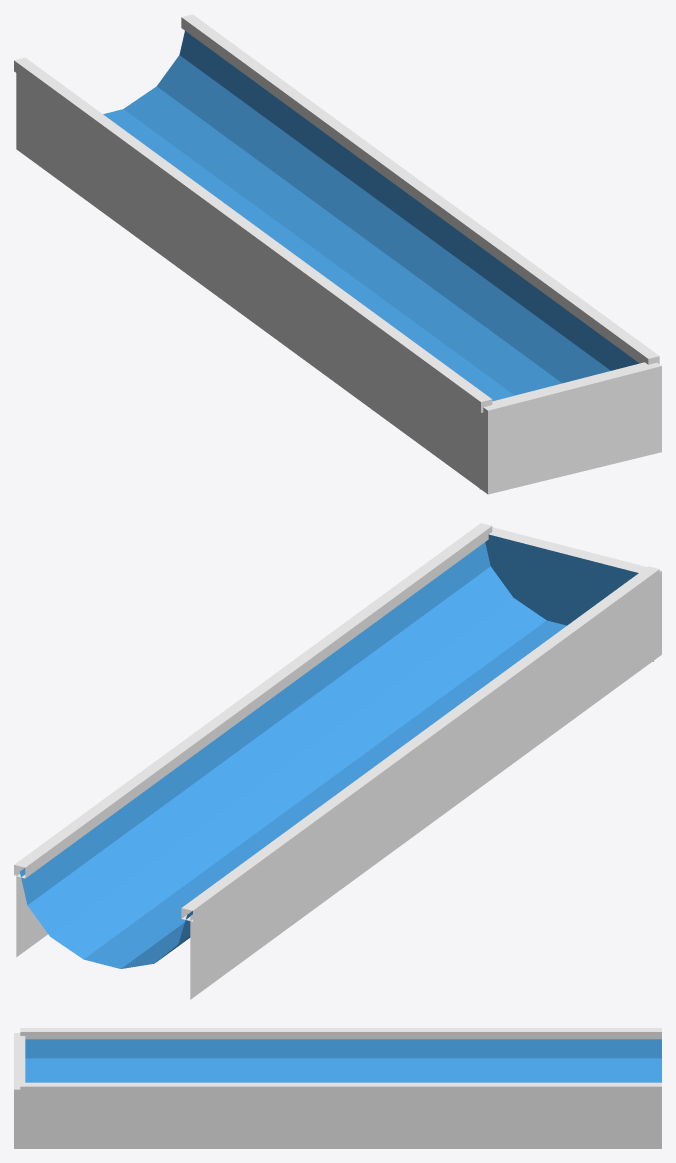
The model's file is StartTrackNoLights.fbx.
The picture shows the model from 3 angles, top to bottom: view 1: azimuth 30°, elevation 25°; view 2: azimuth 150°, elevation 25°; view 3: azimuth 270°, elevation 25°; orthographic projection. The views are drawn at different scales.
Visible parts, largest first — view 1: Bobsleigh_Run_Start; view 2: Bobsleigh_Run_Start; view 3: Bobsleigh_Run_Start.
Part boxes in pixels (bbox=[...]): Bobsleigh_Run_Start: bbox=[14, 14, 661, 494]; Bobsleigh_Run_Start: bbox=[14, 523, 661, 999]; Bobsleigh_Run_Start: bbox=[14, 1028, 661, 1148].
Bounding box in the file's own units: 265 × 132 × 1209.
